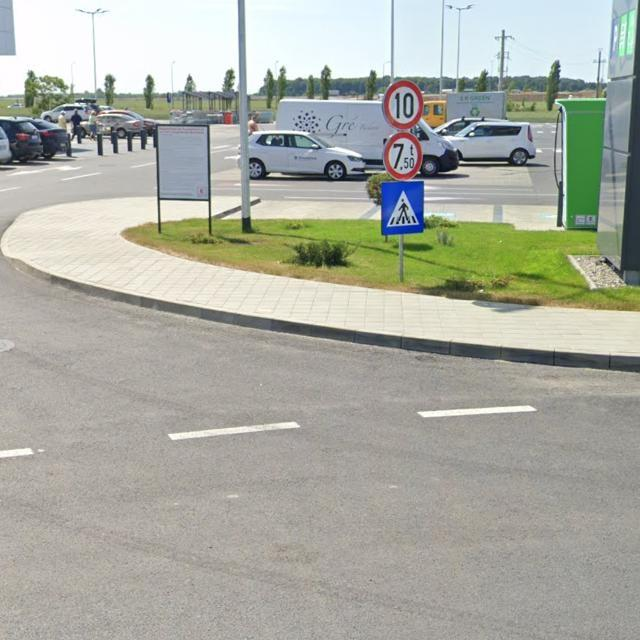forb_speed_over_10: (383, 80, 423, 131)
info_crosswalk: (381, 180, 425, 234)
